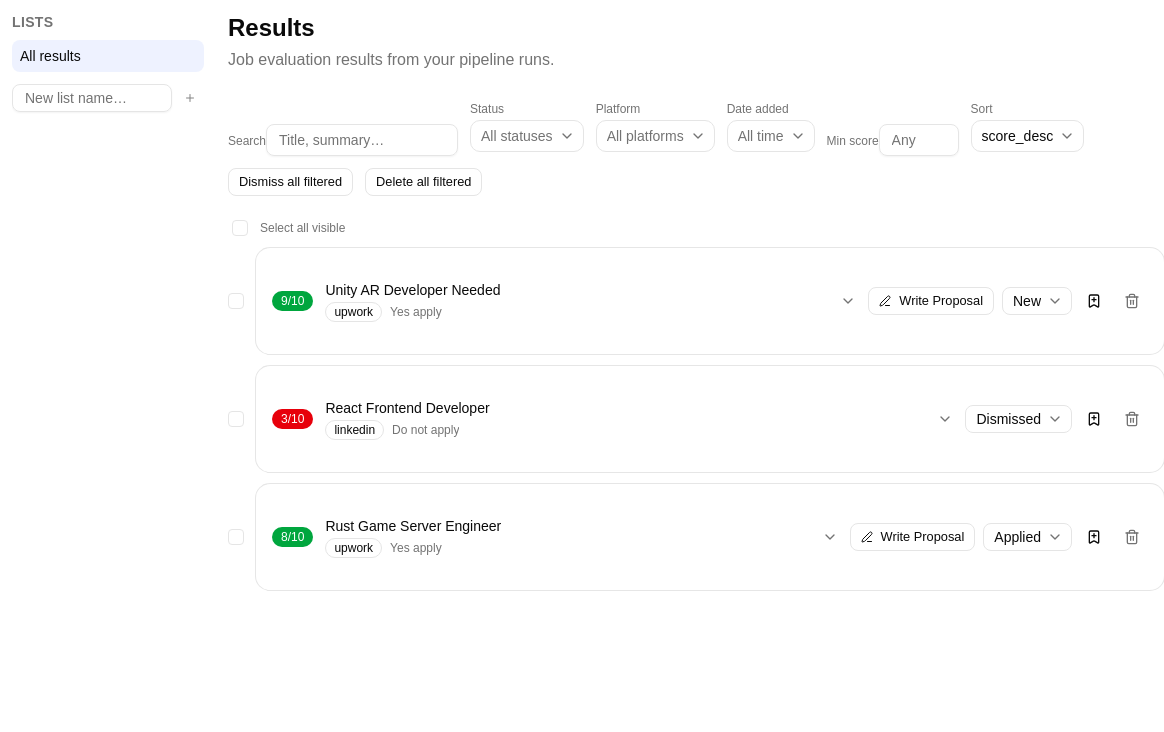
Test: ResultsPage › expands result row to show details
Expected: the text "Perfect match for Unity AR developer" is not shown
Click the row to expand
Click the text "Unity AR Developer Needed" at (413, 290), box left=325, top=282, right=500, bottom=298
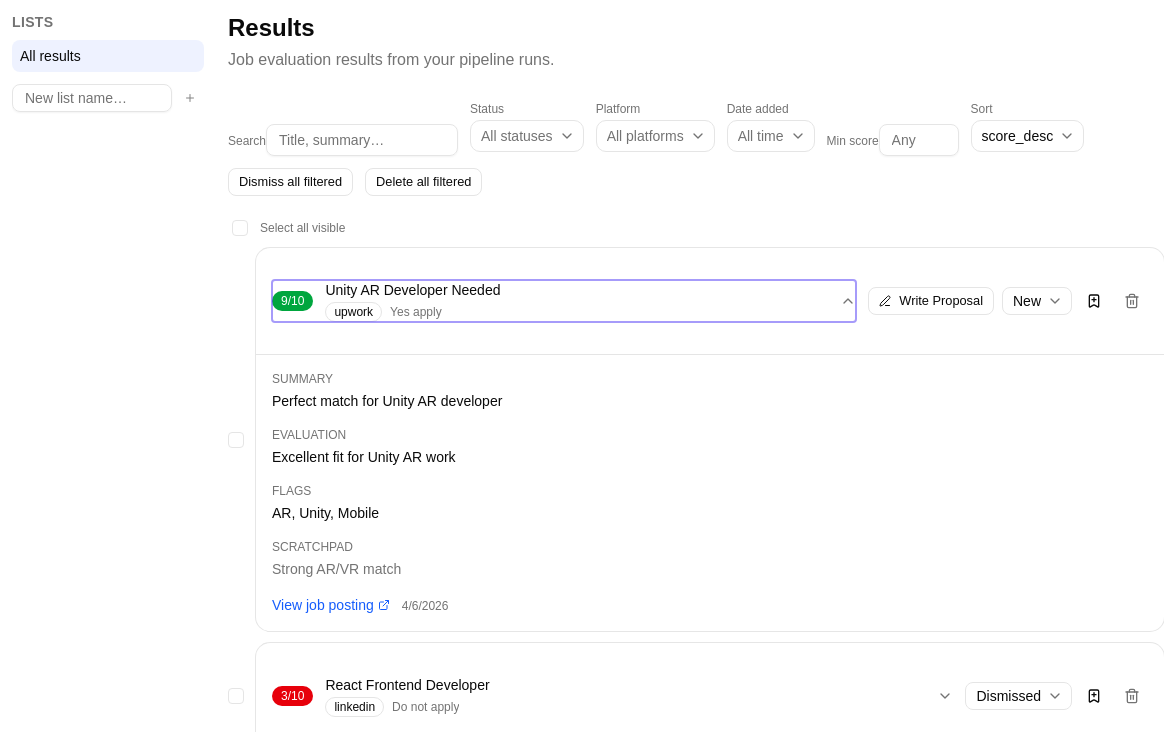
Expected: the text "Perfect match for Unity AR developer" is shown, left=272, top=393, right=502, bottom=409
Expected: the text "Excellent fit for Unity AR work" is shown, left=272, top=449, right=456, bottom=465
Expected: the text "AR, Unity, Mobile" is shown, left=272, top=505, right=379, bottom=521
